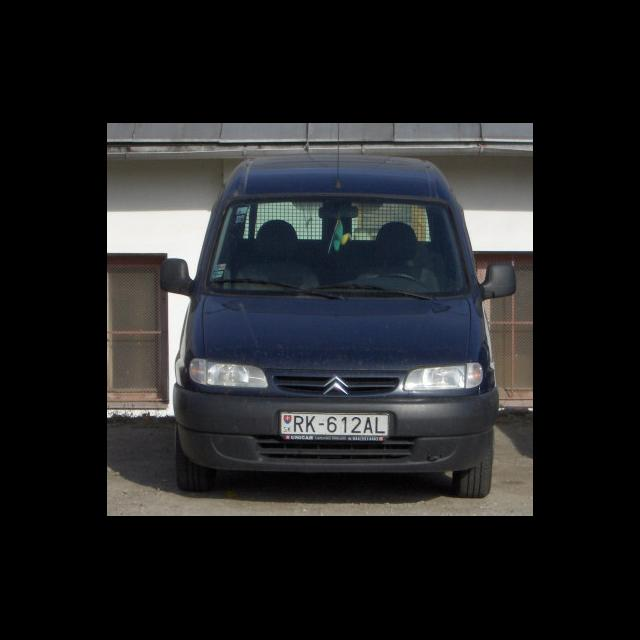Plate: (278, 409, 391, 442)
